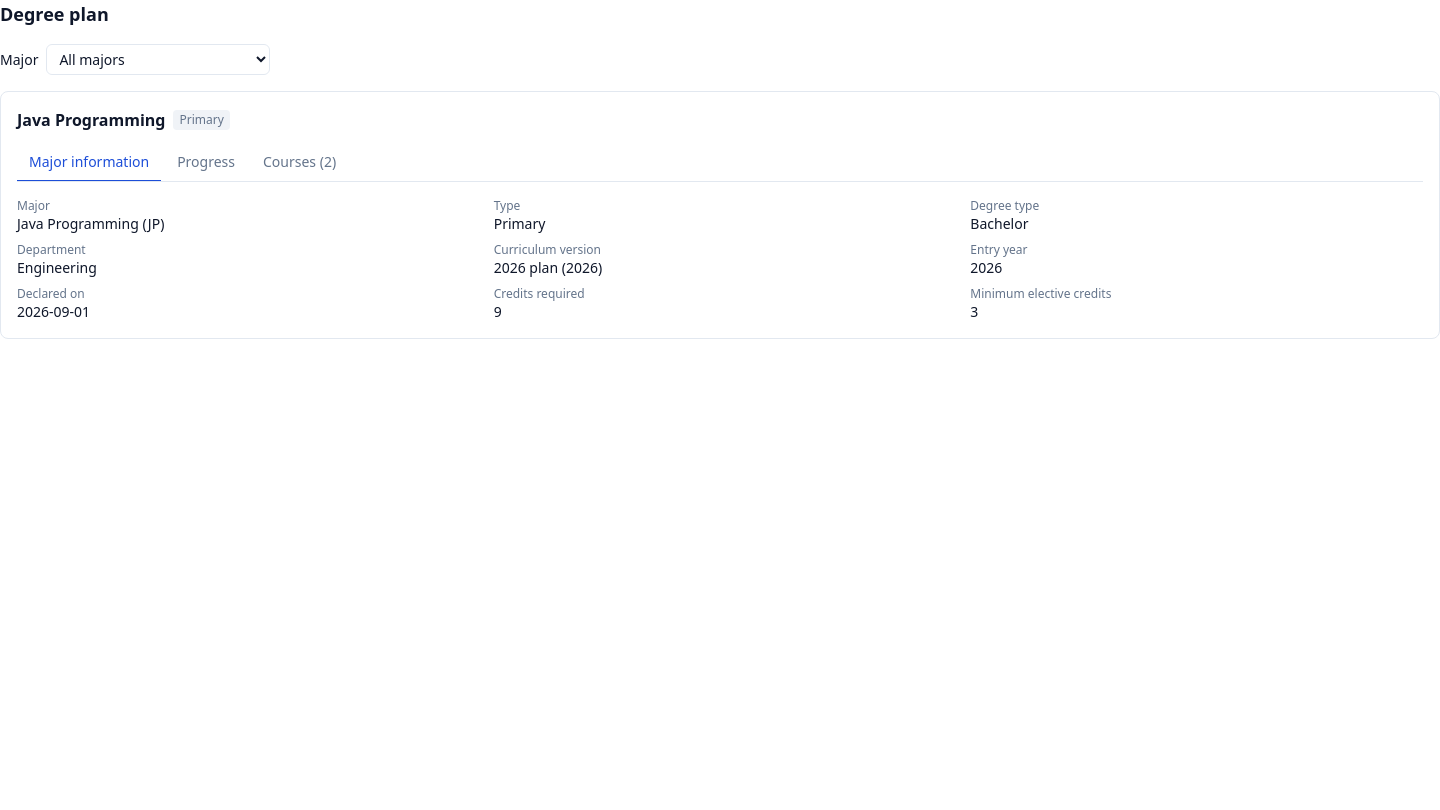
Test: Degree plan (student) › clicking a course opens its information, with prerequisites
Step 1. Click the tab "Courses (2)" → (300, 163), box [251,144,348,182]
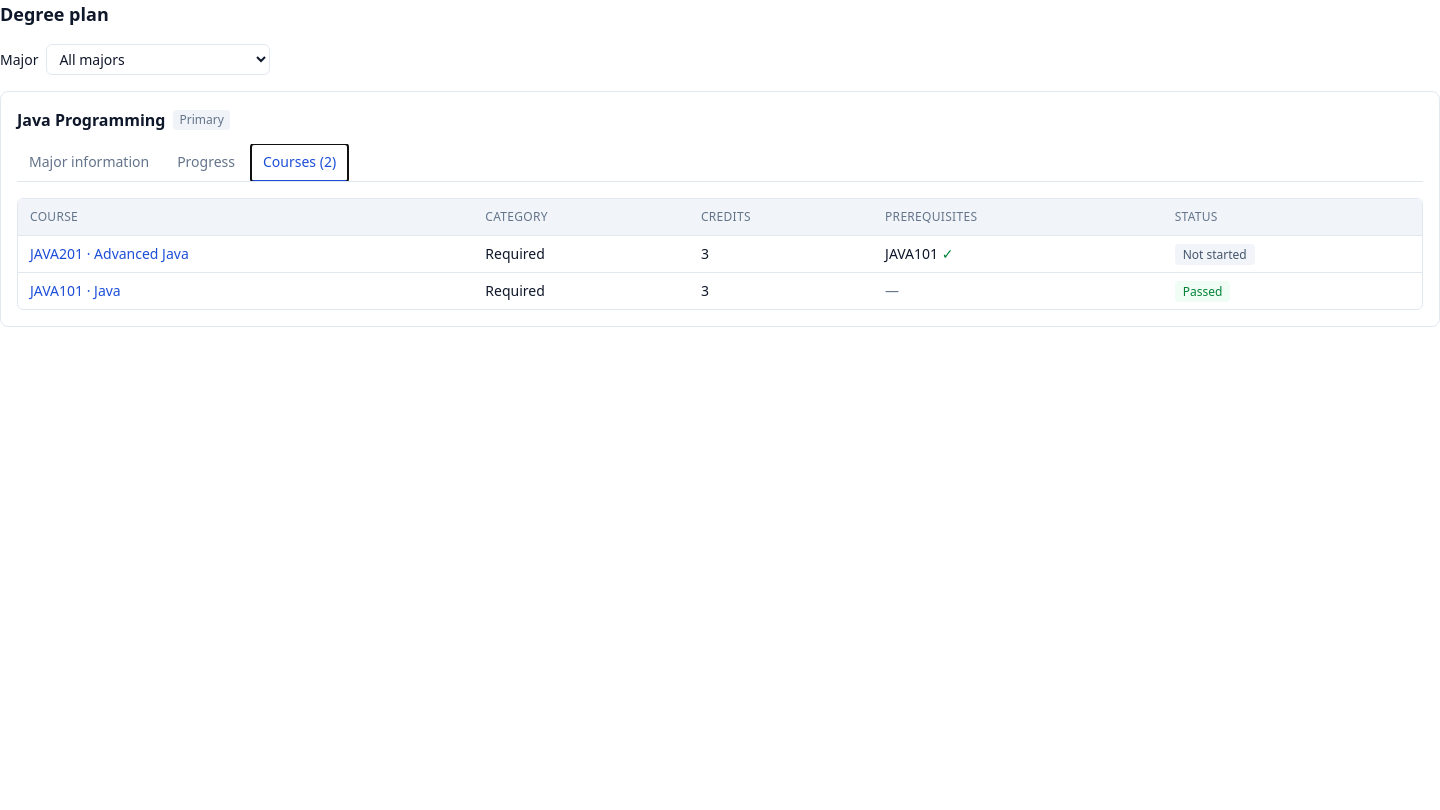
Step 2. Click the button "JAVA201 · Advanced Java" → (109, 254), box [30,244,189,264]
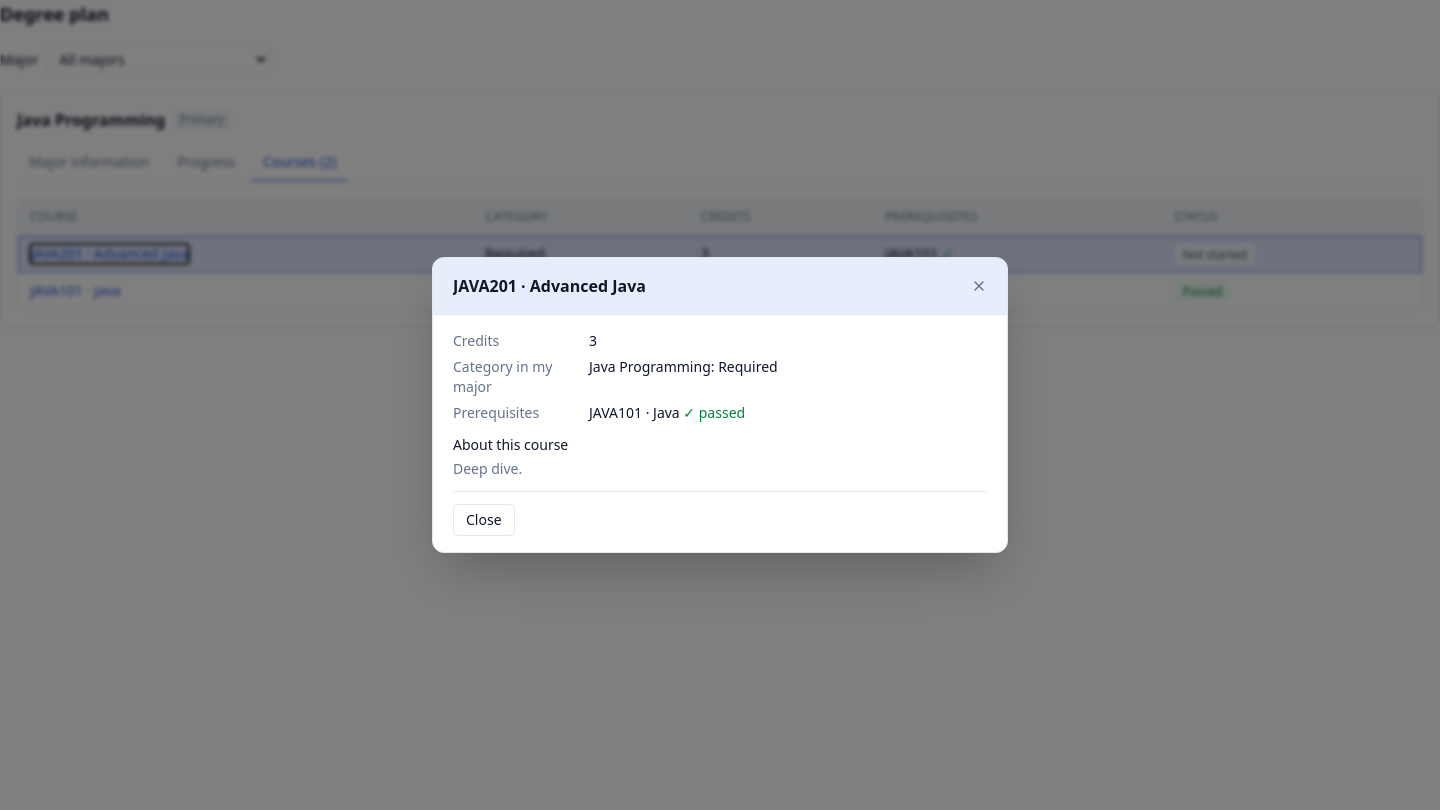
Now the text "Deep dive." is shown, box [453,459,522,478]
Now the list item "JAVA101 · Java ✓ passed" is shown, box [589,403,745,422]
Now the list item "Java Programming: Required" is shown, box [589,357,778,376]
